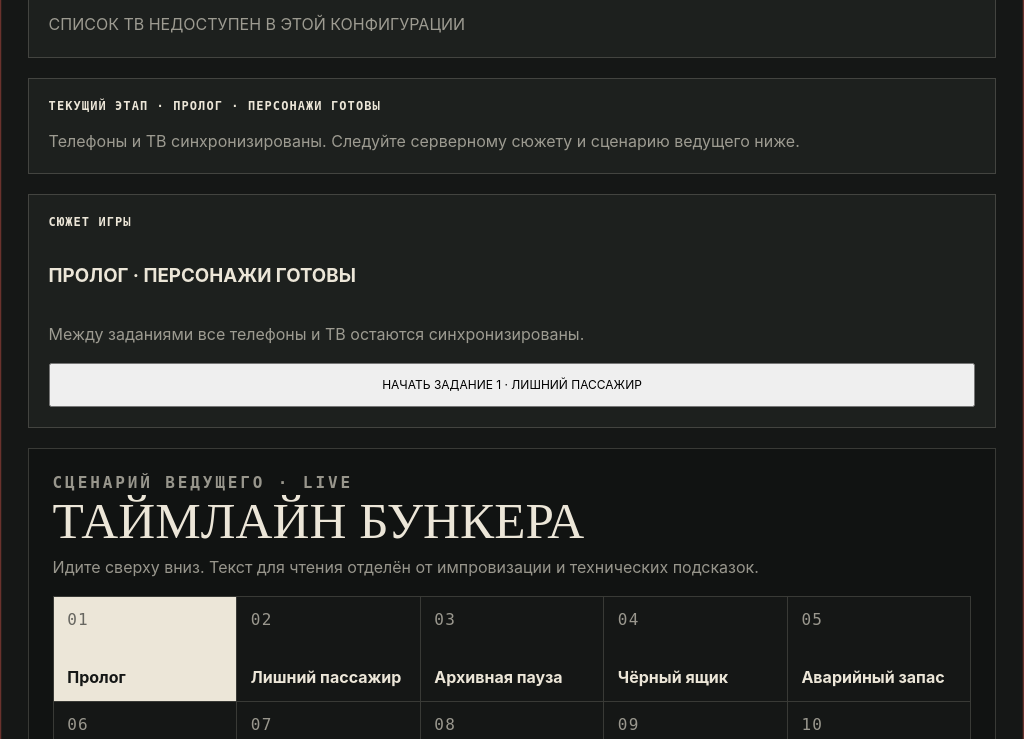
AdminBunkerControl › advances the authoritative global story one understandable owner step at a time
The image size is (1024, 739).
(page scrolled)
Expected: the heading "ПРОЛОГ · ПЕРСОНАЖИ ГОТОВЫ" is shown, [49,264,356,287]
Click the button "НАЧАТЬ ЗАДАНИЕ 1 · ЛИШНИЙ ПАССАЖИР". click: (512, 384)
box: [49,362,975,406]
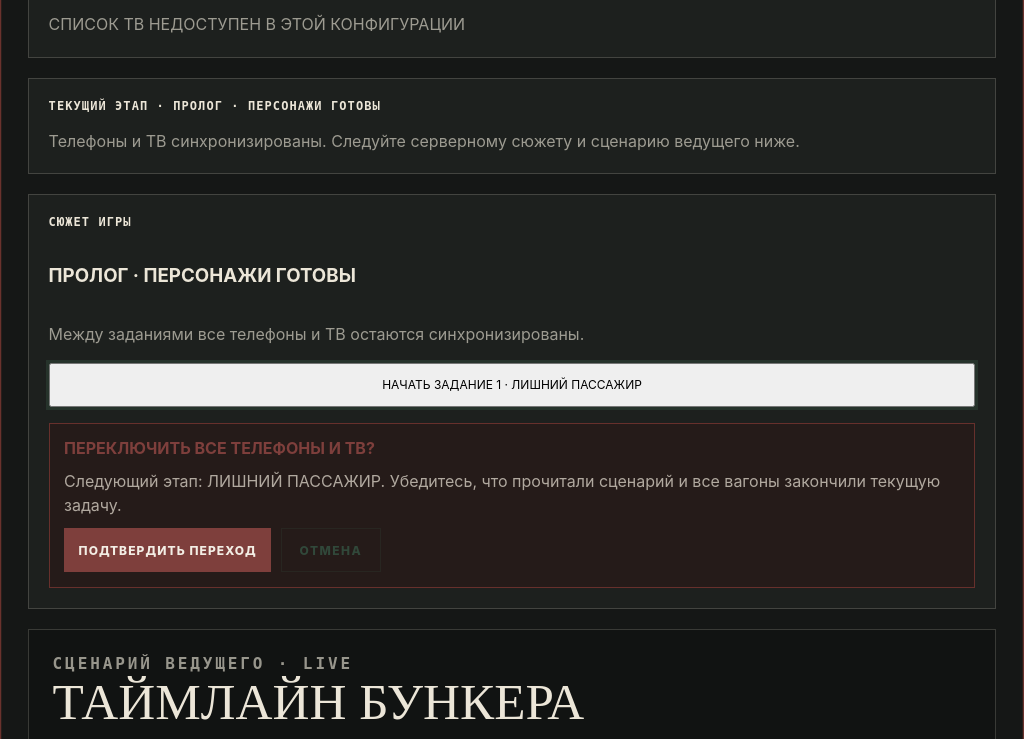
Expected: the message shows "ПЕРЕКЛЮЧИТЬ ВСЕ ТЕЛЕФОНЫ И ТВ", [64,438,375,458]
Click the button "ПОДТВЕРДИТЬ ПЕРЕХОД". click: (168, 550)
box: [64,528,271,572]
(page scrolled)
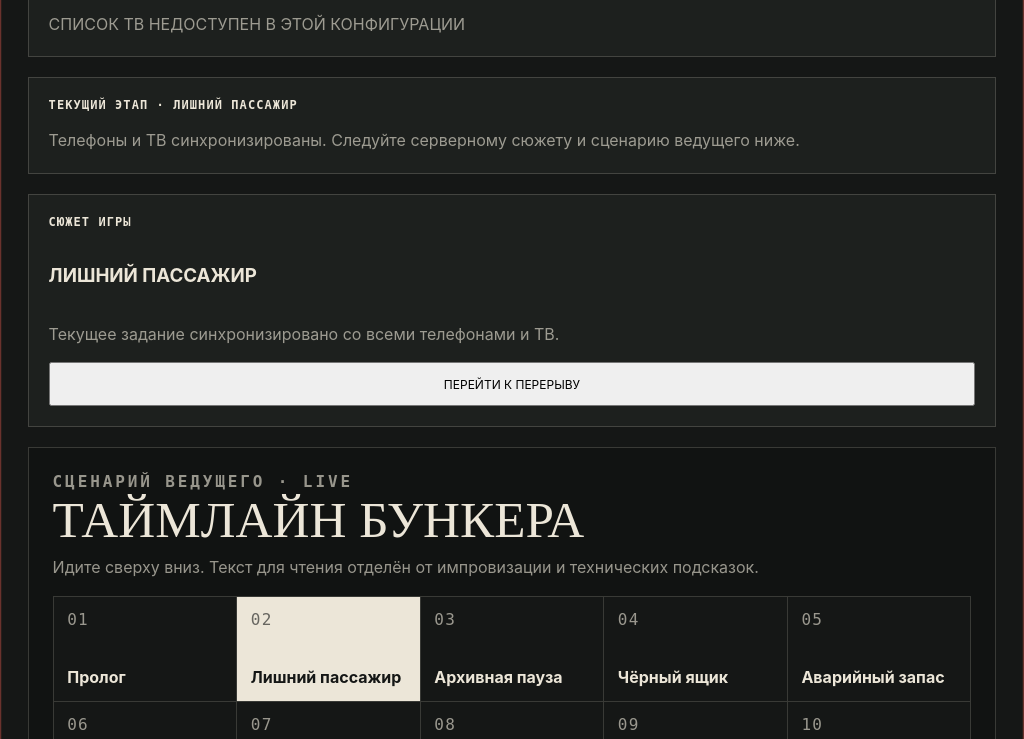
Expected: the heading "ЛИШНИЙ ПАССАЖИР" is shown, [49,264,257,287]
